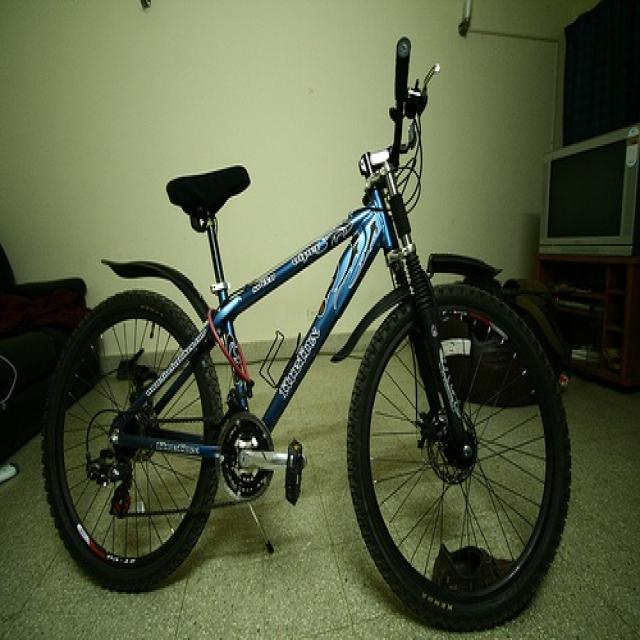bicycle: (42, 38, 576, 634)
tvmonitor: (536, 122, 640, 259)
